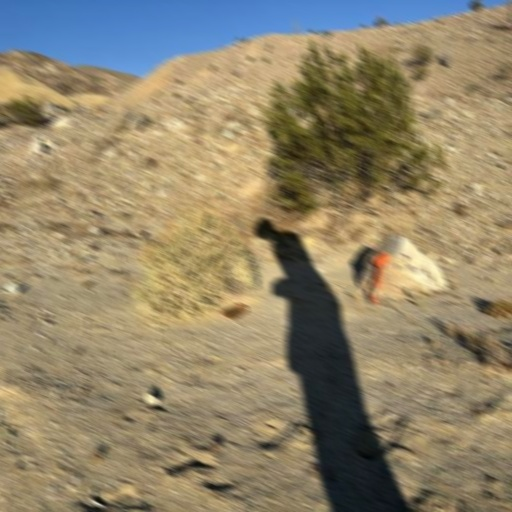mallet: (366, 247, 392, 306)
